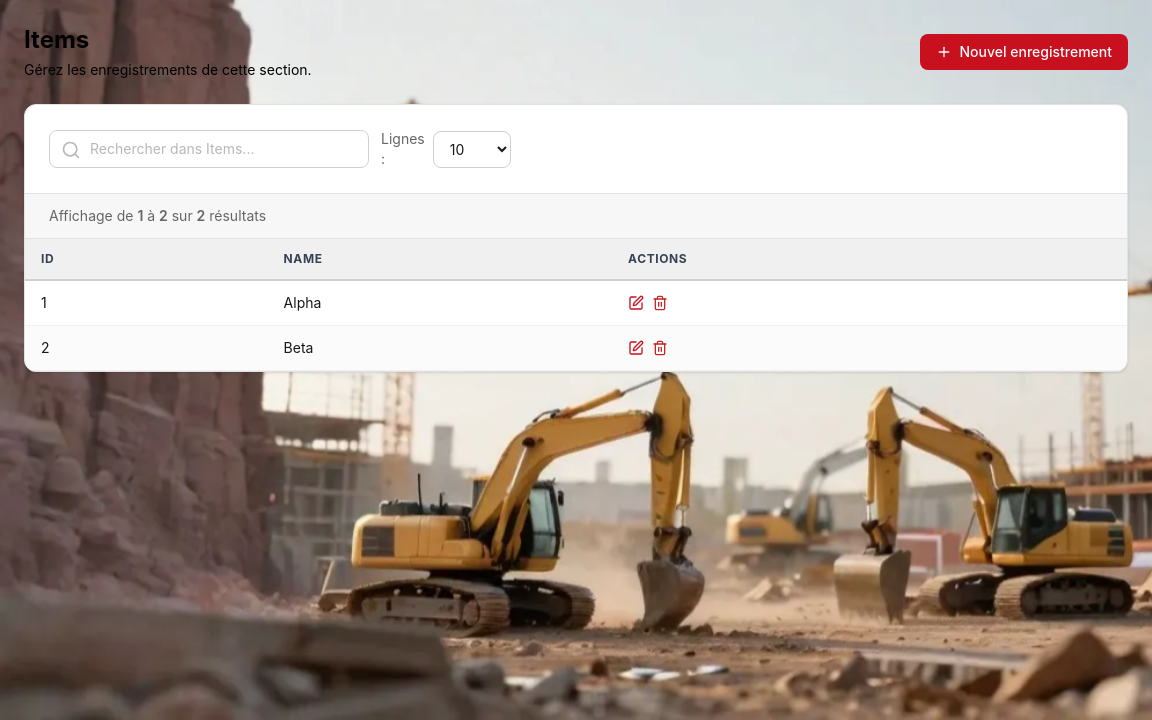
Test: CrudPage.tsx › renders a custom delete confirmation message when provided
Expected: the text "Alpha" is shown, [268,280,612,326]
Click the button titled "Supprimer" in the row of "Alpha" at (660, 303), box [652,295,668,311]
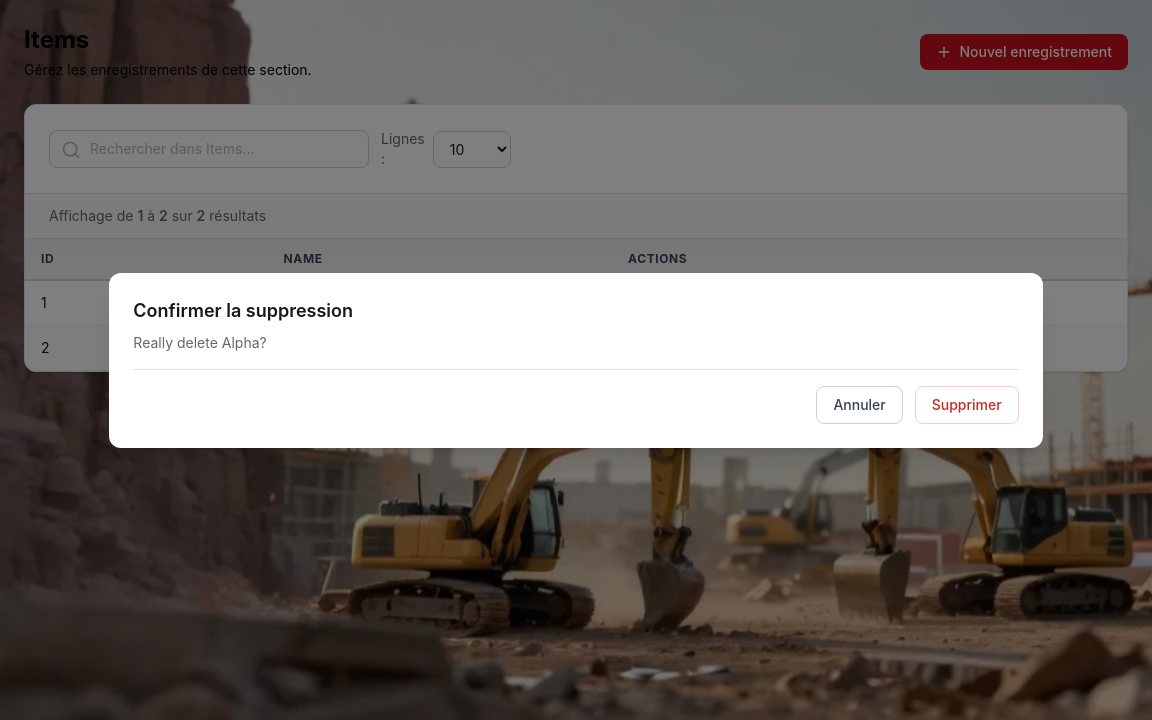
Now the text "Really delete Alpha?" is shown, box [133,334,267,350]
